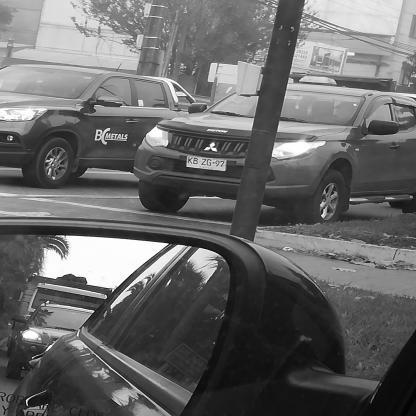Patente: (185, 155, 229, 172)
